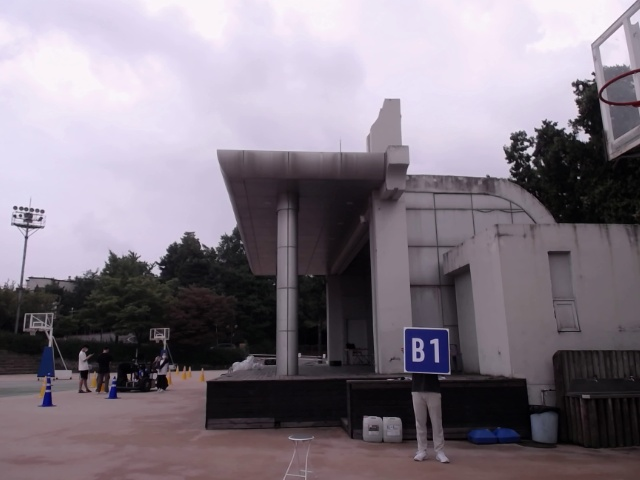delivery_b1: (404, 327, 450, 374)
